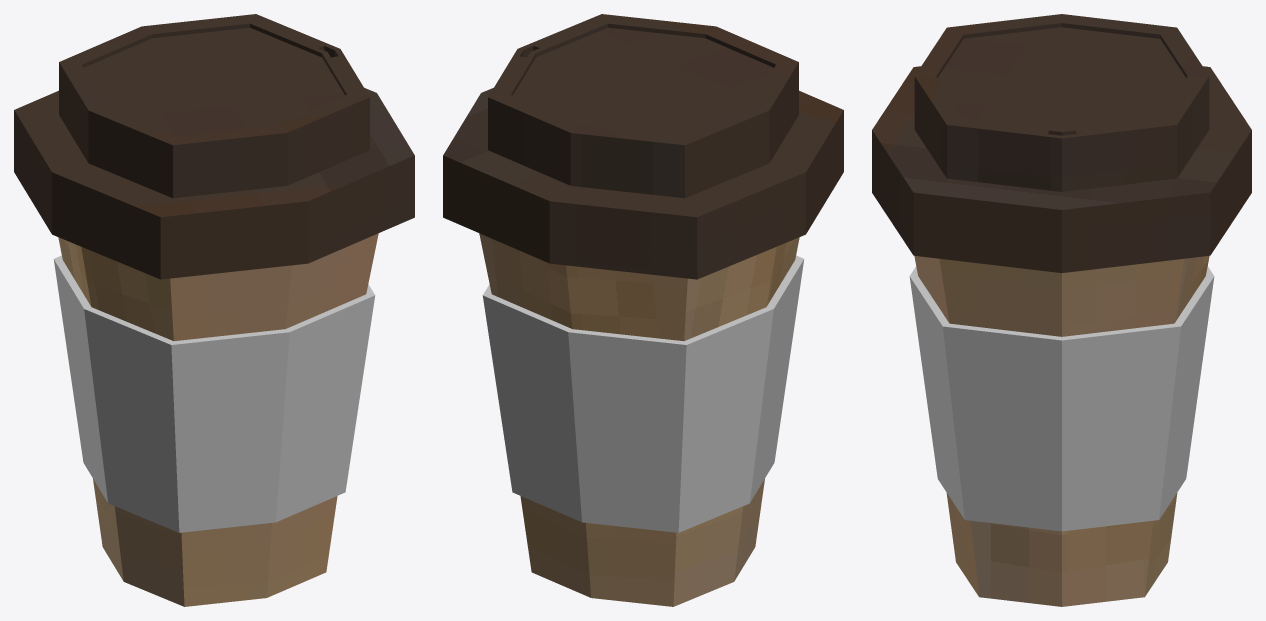
The picture shows the model from 3 angles, left to right: view 1: azimuth 30°, elevation 25°; view 2: azimuth 150°, elevation 25°; view 3: azimuth 270°, elevation 25°; orthographic projection.
Parts seen in each view (by area): view 1: node-0; view 2: node-0; view 3: node-0.
Boxes of the visible parts, x1,y1,x2,y2 form: node-0: (14, 14, 414, 606); node-0: (443, 14, 843, 606); node-0: (872, 14, 1251, 606).
Bounding box in the file's own units: 0.6813 × 0.9619 × 0.6813.
Materials: 1 (1 with a texture image).
